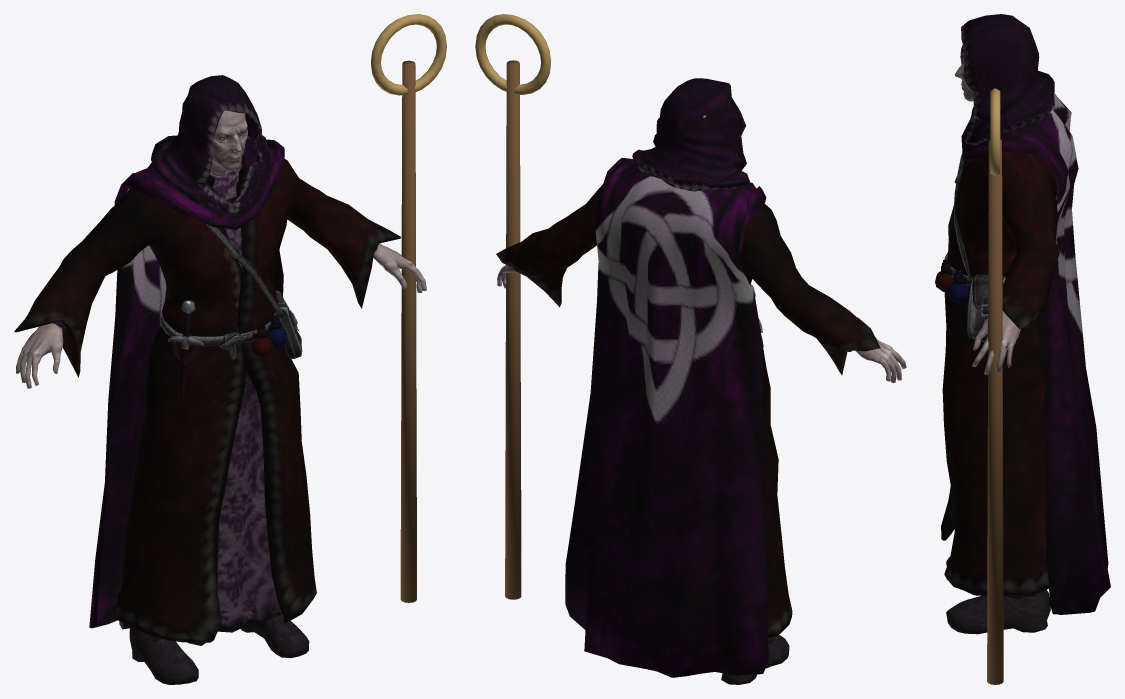
Rendered from actor-monk-mobile.glb.
The picture shows the model from 3 angles, left to right: view 1: azimuth 30°, elevation 25°; view 2: azimuth 150°, elevation 25°; view 3: azimuth 270°, elevation 25°; orthographic projection.
Parts seen in each view (by area): view 1: mage · posed; view 2: mage · posed; view 3: mage · posed.
Part boxes in pixels (left/top/right/bottom): mage · posed: left=14, top=14, right=446, bottom=684; mage · posed: left=475, top=14, right=906, bottom=684; mage · posed: left=935, top=14, right=1110, bottom=684.
Size of the model in its own units: 1.54 by 2.07 by 0.5488.
3 materials, 1 textured.
